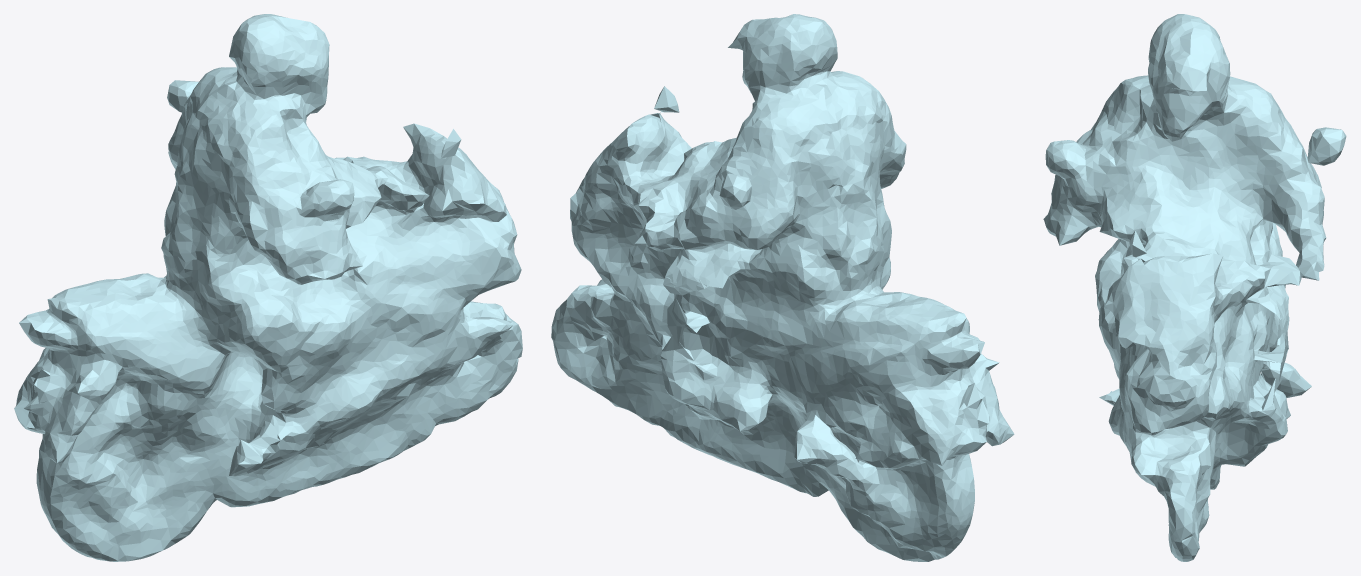
File: rider-normal.glb
3 renders of one model, left to right at view 1: azimuth 30°, elevation 25°; view 2: azimuth 150°, elevation 25°; view 3: azimuth 270°, elevation 25°, orthographic. The views are drawn at different scales.
Visible parts, largest first — view 1: extracted_mesh; view 2: extracted_mesh; view 3: extracted_mesh.
Part boxes in pixels (box(x1,y1,x2,y2)): extracted_mesh: box(14, 14, 522, 561); extracted_mesh: box(551, 14, 1014, 561); extracted_mesh: box(1043, 14, 1346, 561).
Bounding box in the file's own units: 0.9328 × 0.9782 × 0.5168.
Materials: 1 (1 with a texture image).
